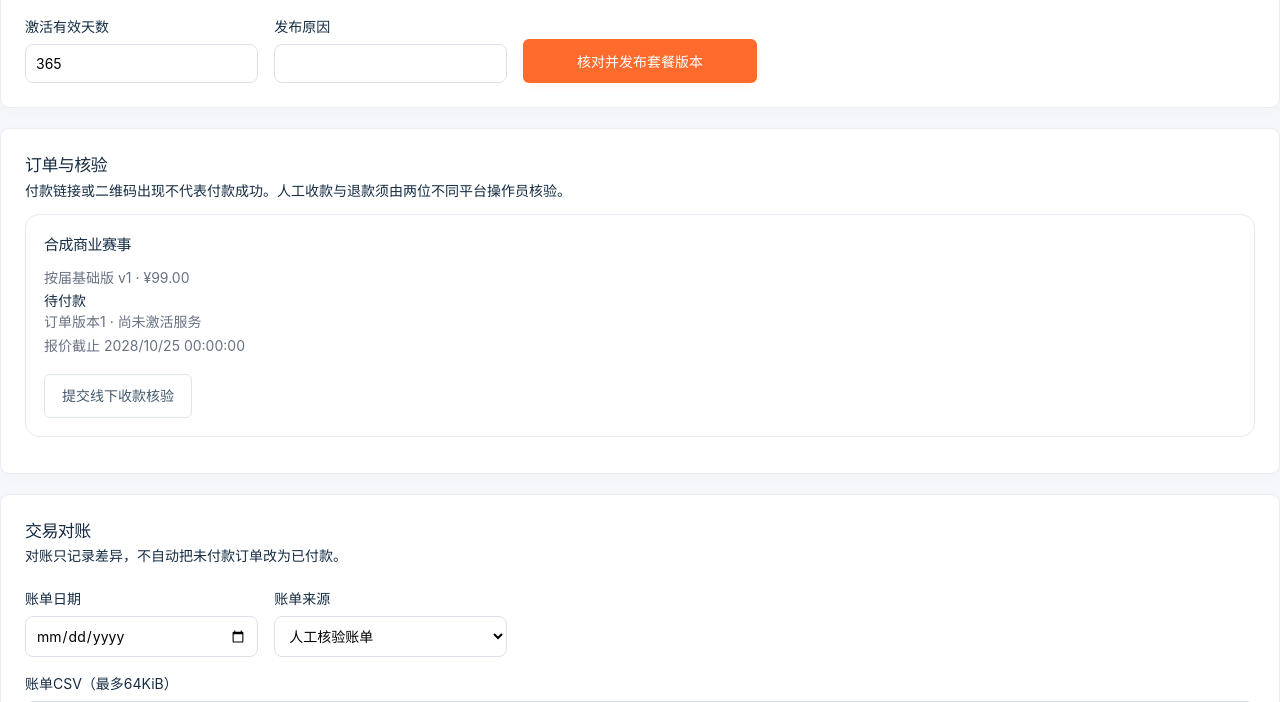
Test: commercial workflow UI (unit responses, no payment gateway) › a stale financial command preserves review input and requires an explicit refresh instead of replay
(page scrolled)
Click the button "提交线下收款核验": (118, 396) [44,374,192,418]
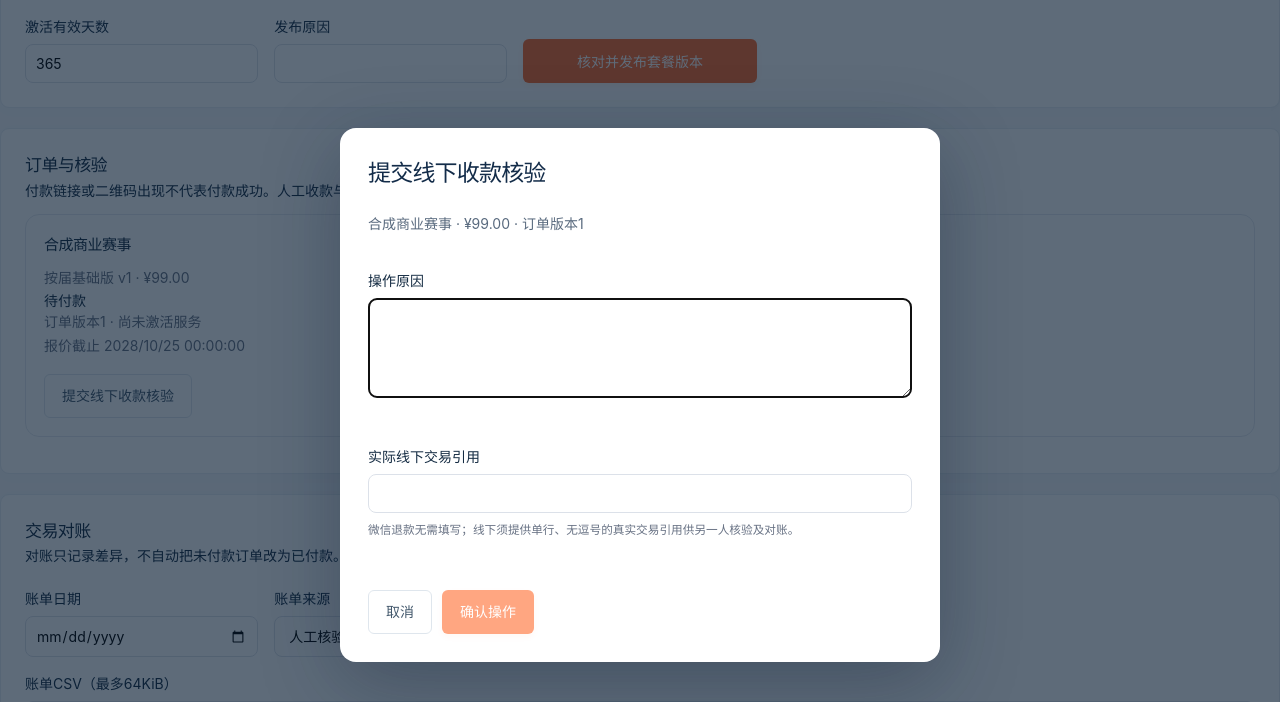
In the text box labelled "操作原因": (640, 348) [368,298,912,398], type "已核对线下合成流水"
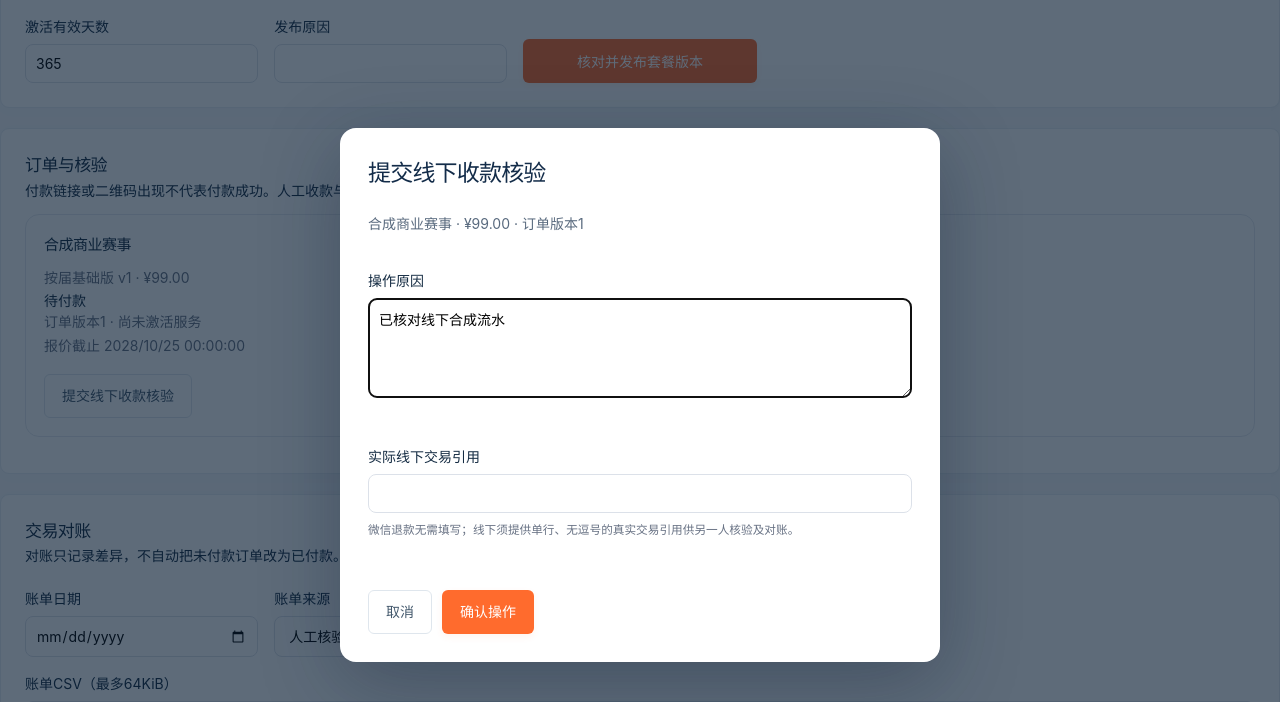
In the field labelled "实际线下交易引用": (640, 494) [368,474,912,513], type "bank-reference-123"
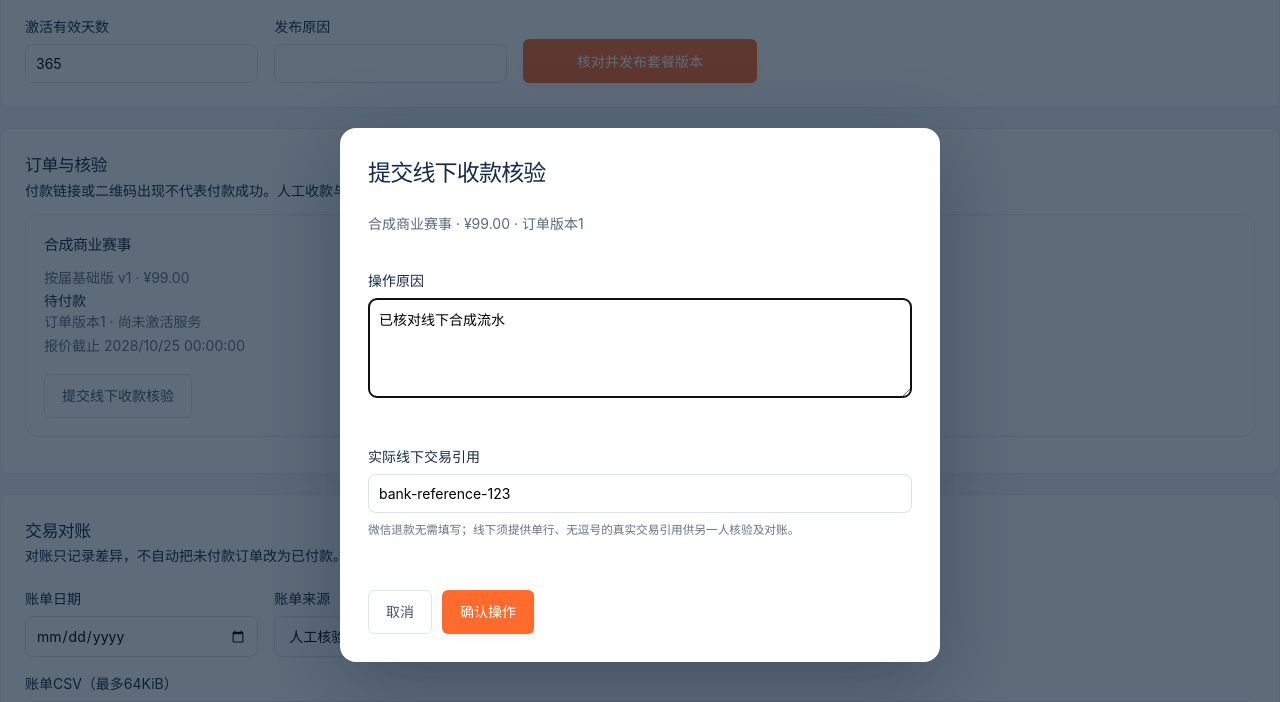
Click the button "确认操作": (488, 612) [442,590,534,634]
(page scrolled)
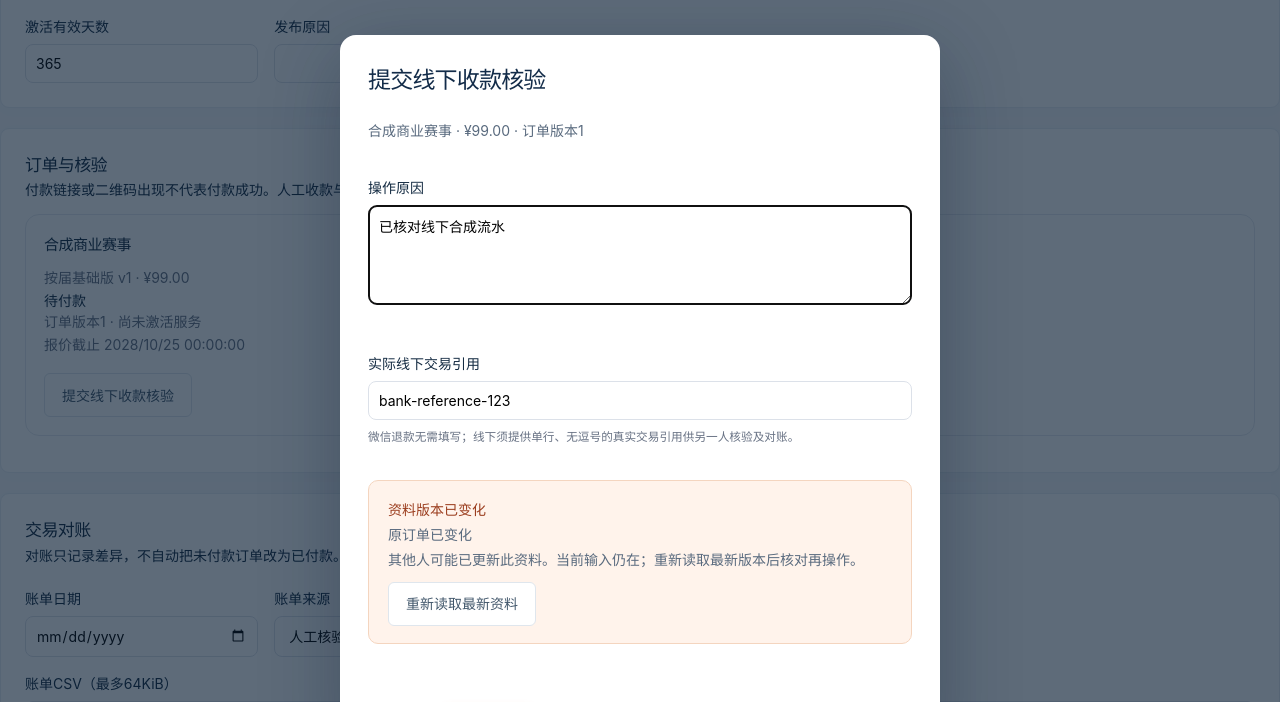
Expected: the text "原订单已变化" is shown, [388,526,472,543]
